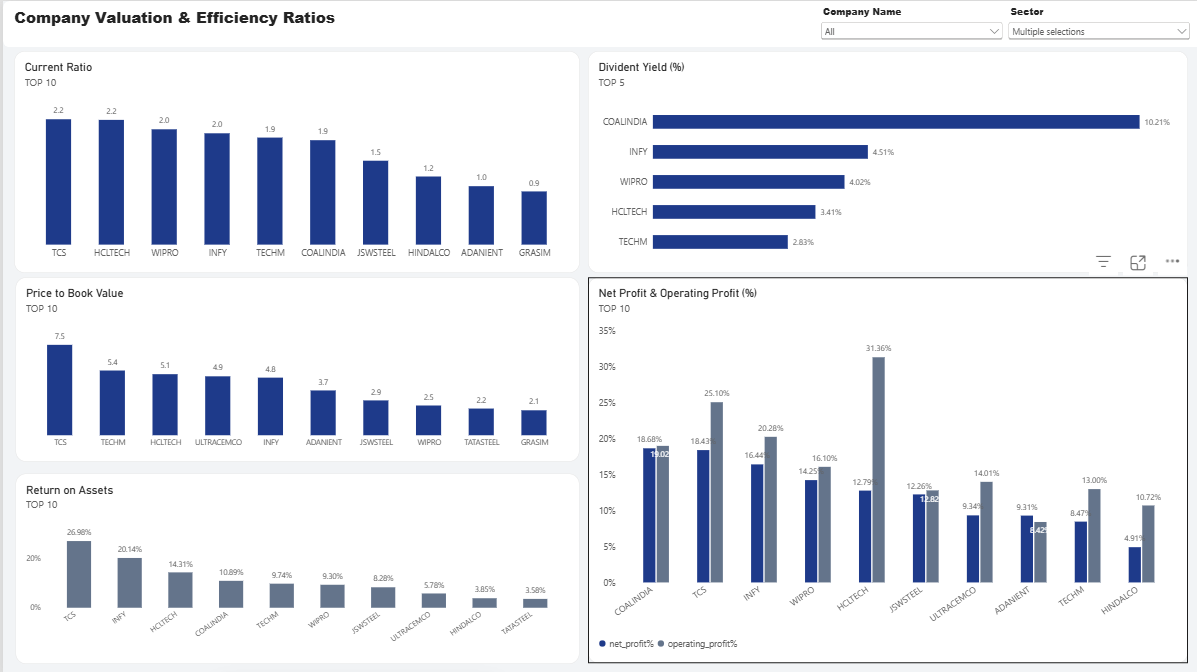

Layout of this report page (visuals, bound fields, positions):
{"tool":"powerbi","page":{"name":"Company Valuation & Efficiency Ratios","canvas":[1920,1080],"ordinal":1},"visuals":[{"type":"shape","box":[0,0,1920,74],"z":0},{"type":"textbox","box":[17.8,8.9,526.7,44.4],"z":1000},{"type":"slicer","fields":{"Values":["level_1.company_name"]},"box":[1304.2,5,300,75],"z":2000},{"type":"slicer","fields":{"Values":["sector_dim.sector"]},"box":[1604.2,6.7,300,76.7],"z":3000},{"type":"clusteredColumnChart","title":"Current Ratio","fields":{"Category":["level_2.symbol"],"Y":["Sum(level_2.Current_ratio)"]},"box":[17.5,80,905,355],"z":4000},{"type":"clusteredBarChart","title":"Divident Yield (%)","fields":{"Category":["level_2.symbol"],"Y":["Sum(level_2.Divident_yeild)"]},"box":[935,80,960,355],"z":5000},{"type":"clusteredColumnChart","title":"Net Profit & Operating Profit (%)","fields":{"Category":["level_2.symbol"],"Y":["Sum(level_2.net_profit%)","Sum(level_2.operating_profit%)"]},"box":[935,442.5,960,617.5],"z":6000},{"type":"clusteredColumnChart","title":"Price to Book Value","fields":{"Category":["level_2.symbol"],"Y":["Sum(level_2.pb)"]},"box":[20,442.5,902.5,295],"z":7000},{"type":"clusteredColumnChart","title":"Return on Assets","fields":{"Category":["level_2.symbol"],"Y":["Sum(level_2.ROA)"]},"box":[20,755,902.5,305],"z":8000}]}

Visuals, with their boxes in screenshot pixels (x1, y1, x2, y2), scaled from the page's 1920x1080 canvas onto the 1197x672 screenshot:
shape: [left=0, top=0, right=1196, bottom=46]
textbox: [left=11, top=6, right=339, bottom=33]
slicer - level_1.company_name: [left=813, top=3, right=1000, bottom=50]
slicer - sector_dim.sector: [left=1000, top=4, right=1187, bottom=52]
"Current Ratio" clusteredColumnChart: [left=11, top=50, right=575, bottom=271]
"Divident Yield (%)" clusteredBarChart: [left=583, top=50, right=1181, bottom=271]
"Net Profit & Operating Profit (%)" clusteredColumnChart: [left=583, top=275, right=1181, bottom=660]
"Price to Book Value" clusteredColumnChart: [left=12, top=275, right=575, bottom=459]
"Return on Assets" clusteredColumnChart: [left=12, top=470, right=575, bottom=660]
